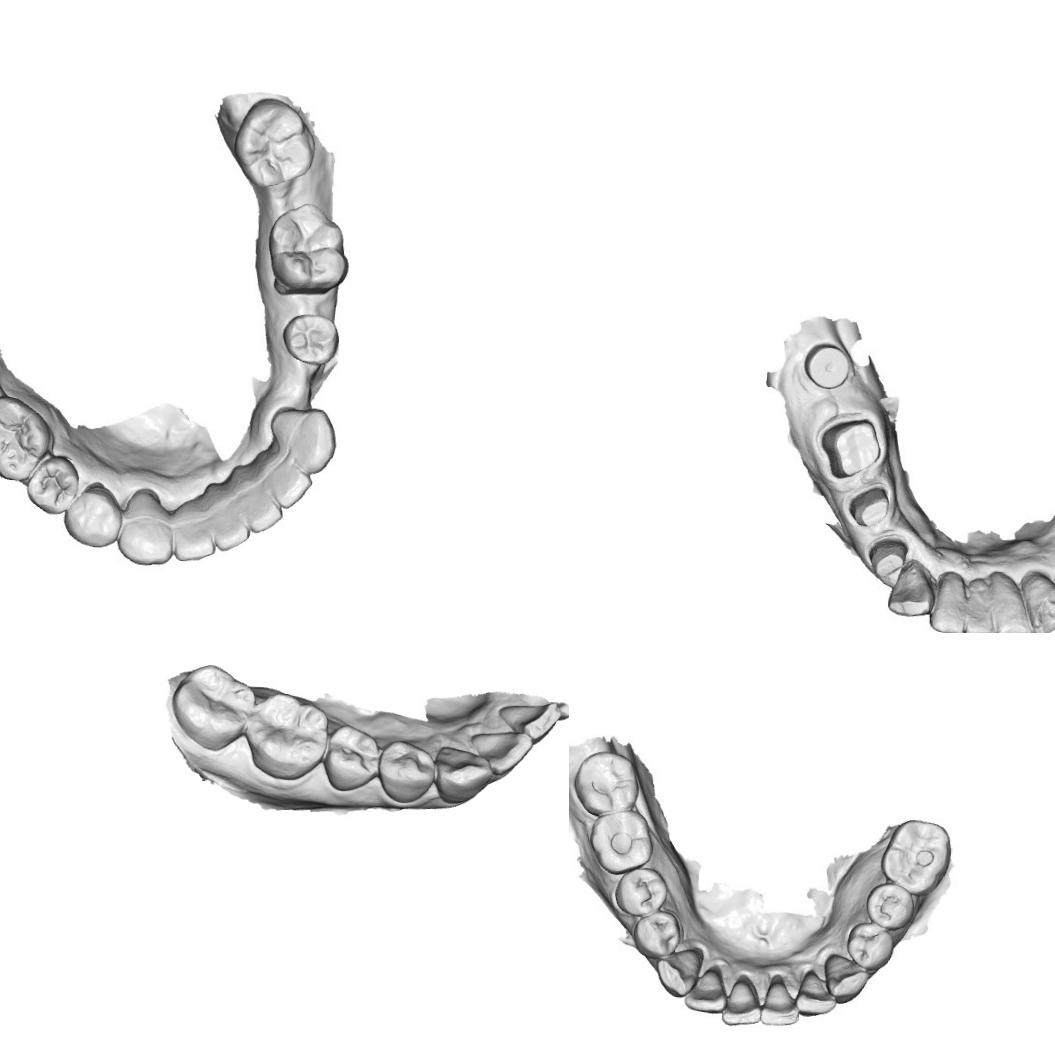canine: (268, 405, 339, 475), (116, 489, 175, 568), (885, 556, 939, 624), (434, 744, 490, 804), (822, 950, 872, 1006), (652, 946, 701, 1002), (1025, 568, 1055, 633)
crown: (822, 414, 882, 476), (844, 483, 894, 535), (866, 532, 912, 586)
implant: (801, 340, 853, 393)
incisor: (470, 727, 532, 775), (494, 700, 563, 743), (168, 506, 216, 564), (759, 972, 803, 1030), (718, 970, 762, 1028), (680, 962, 726, 1016), (994, 570, 1033, 633), (205, 501, 252, 553), (794, 966, 840, 1019), (266, 463, 313, 511), (239, 486, 284, 535), (933, 570, 968, 630), (965, 570, 995, 633)
molar: (265, 200, 354, 300), (232, 95, 318, 193), (168, 663, 258, 754), (244, 690, 332, 782), (878, 817, 954, 898), (0, 392, 58, 482), (571, 744, 640, 817), (588, 810, 656, 878)
premolar: (374, 738, 440, 804), (63, 480, 119, 550), (321, 723, 377, 790), (280, 308, 342, 367), (23, 454, 80, 516), (612, 864, 669, 918), (632, 903, 686, 960), (863, 880, 916, 935), (845, 922, 895, 972)
